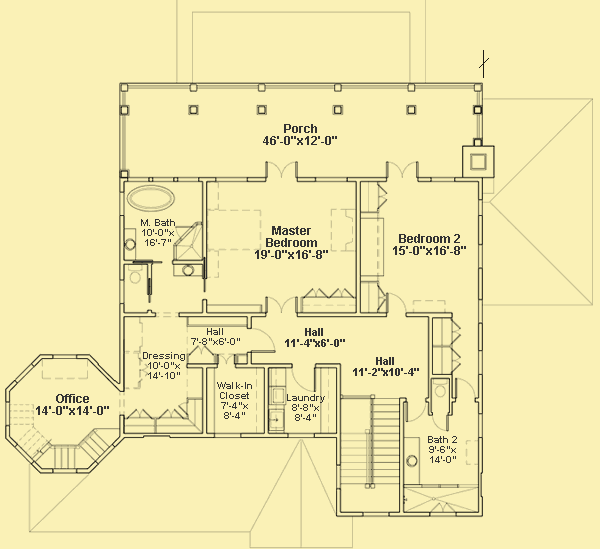another bathroom has a shower space, small and large sink: (400, 376, 485, 518)
master bathroom has a large tub and shower space with small and large sink: (122, 176, 207, 319)
this laundry room has washer and dryer facility: (262, 364, 340, 436)
